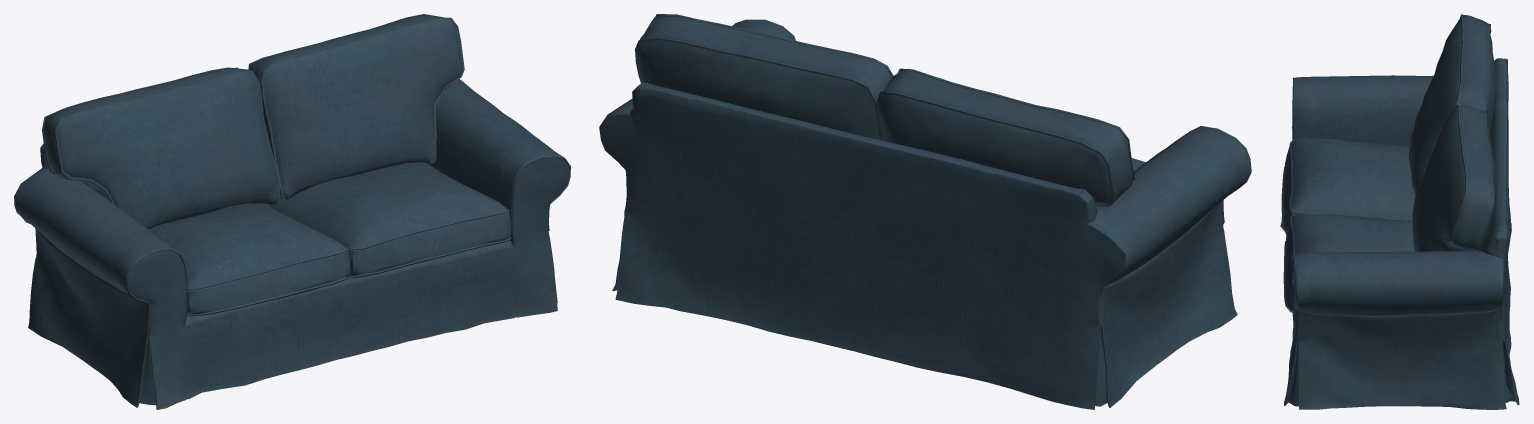
Rendered from cover-hillared-granatowy.glb.
The picture shows the model from 3 angles, left to right: view 1: azimuth 30°, elevation 25°; view 2: azimuth 150°, elevation 25°; view 3: azimuth 270°, elevation 25°; orthographic projection. The views are drawn at different scales.
Parts seen in each view (by area): view 1: Mesh_0; view 2: Mesh_0; view 3: Mesh_0.
Part boxes in pixels (x1,y1,x2,y2): Mesh_0: (14, 14, 570, 409); Mesh_0: (599, 14, 1251, 409); Mesh_0: (1280, 14, 1519, 409).
Bounding box in the file's own units: 1.79 × 0.88 × 0.88.
2 materials, 2 textured.
